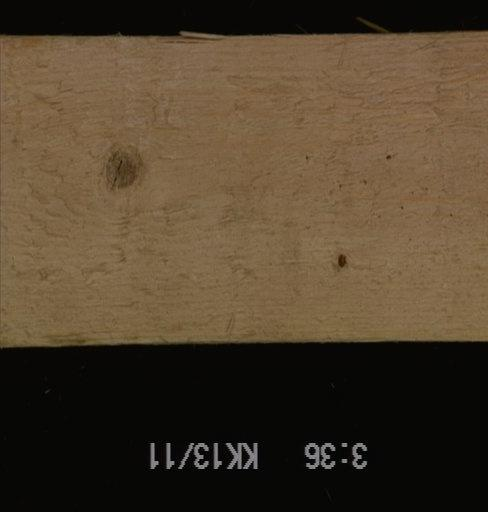small_knot: (337, 251, 349, 268)
sound_knot: (103, 145, 142, 189)
wave: (150, 34, 230, 52)
